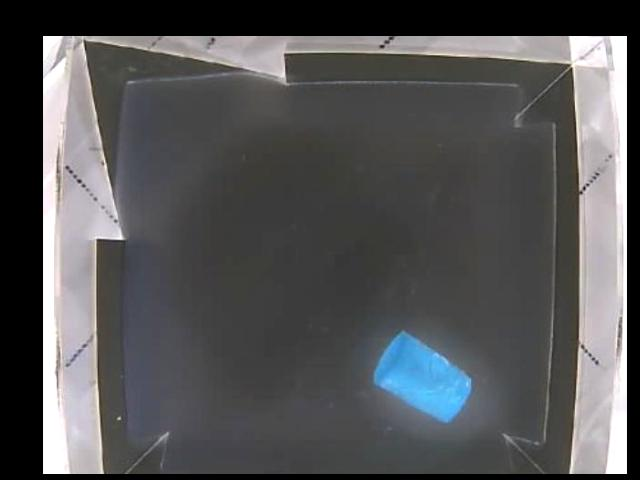Carrot: (372, 330, 474, 422)
